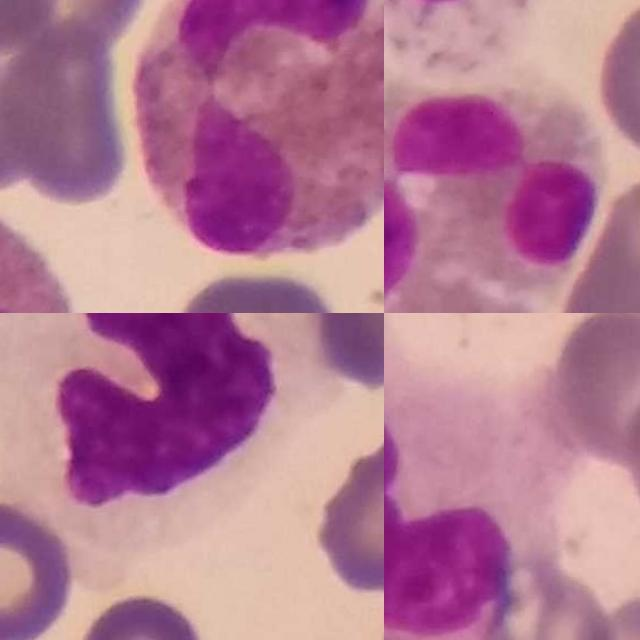Eosinophil: (129, 0, 384, 260), (384, 33, 604, 313)
Monocyte: (384, 315, 577, 640), (0, 313, 304, 514)
